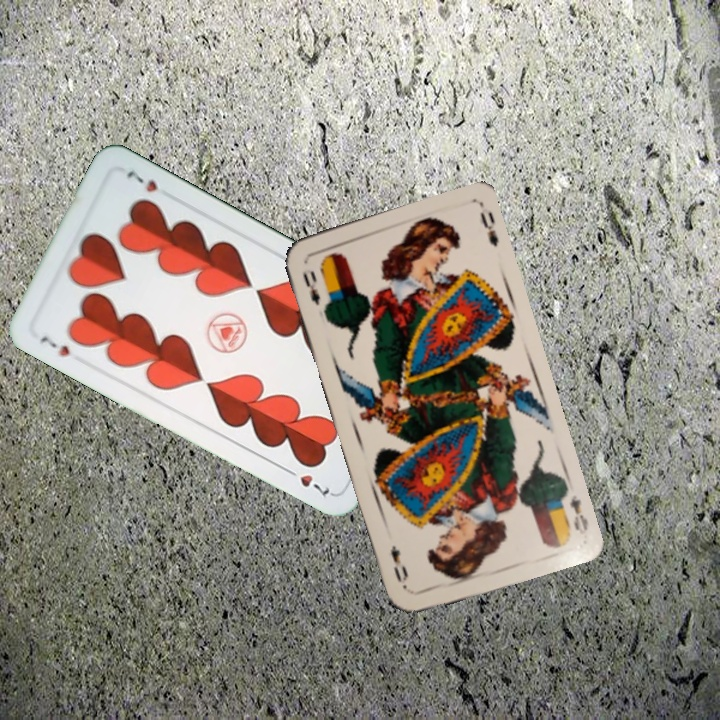EO: (565, 491, 591, 537), (298, 267, 323, 308)
H7: (35, 332, 73, 359)
